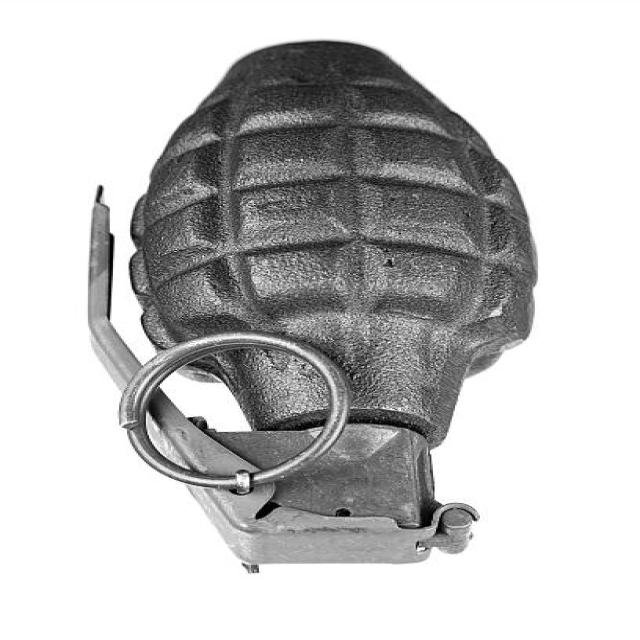grenade: (87, 42, 549, 588)
